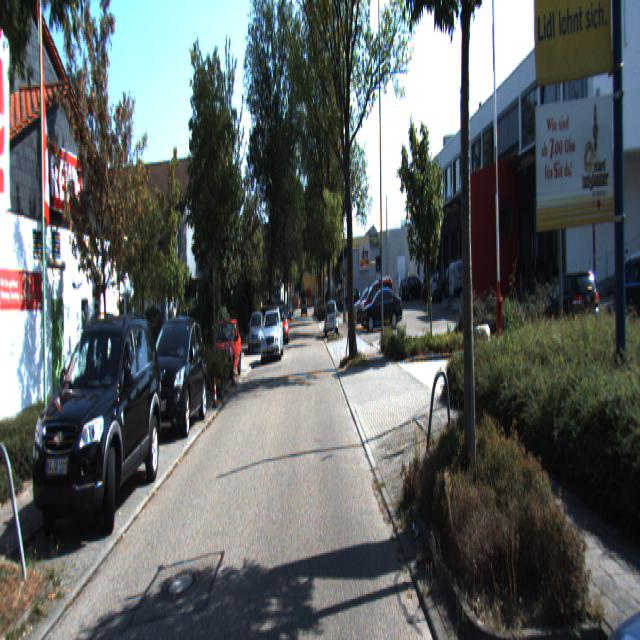Car: (30, 312, 166, 553), (588, 328, 639, 638), (142, 311, 208, 440), (209, 317, 242, 386), (448, 257, 489, 306), (359, 274, 396, 328), (361, 285, 404, 329), (260, 308, 284, 361), (325, 299, 339, 338)
